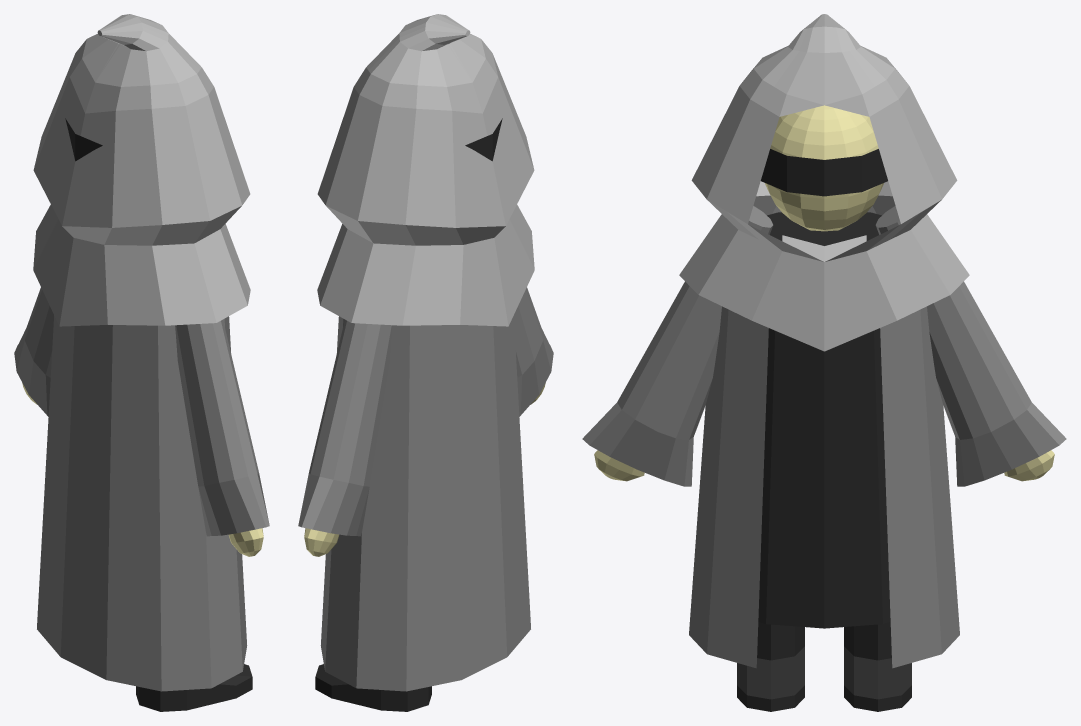
Rendered from glyphv1.fbx.
3 renders of one model, left to right at view 1: azimuth 30°, elevation 25°; view 2: azimuth 150°, elevation 25°; view 3: azimuth 270°, elevation 25°, orthographic. The views are drawn at different scales.
Parts seen in each view (by area): view 1: Cylinder.002, Cone, Cylinder.004, Cylinder, Cylinder.005, Cylinder.003; view 2: Cylinder.002, Cone, Cylinder.004, Cylinder, Cylinder.005, Cylinder.003; view 3: Cone, Cylinder.002, Cylinder.001, Cylinder.004, Cylinder, Sphere, Cylinder.003, Cylinder.005.
Boxes of the visible parts, box(x1,y1,x2,y2) form: Cylinder.002: box(37, 315, 247, 691); Cone: box(33, 14, 250, 326); Cylinder.004: box(14, 287, 269, 536); Cylinder: box(136, 664, 252, 711); Cylinder.005: box(22, 383, 263, 556); Cylinder.003: box(65, 118, 102, 161); Cylinder.002: box(320, 315, 530, 691); Cone: box(317, 14, 534, 326); Cylinder.004: box(298, 287, 553, 536); Cylinder: box(315, 664, 431, 711); Cylinder.005: box(304, 383, 545, 556); Cylinder.003: box(465, 118, 502, 161); Cone: box(679, 14, 969, 351); Cylinder.002: box(689, 306, 959, 668); Cylinder.001: box(758, 212, 890, 628); Cylinder.004: box(582, 206, 1066, 486); Cylinder: box(737, 622, 911, 711); Sphere: box(765, 105, 883, 231); Cylinder.003: box(761, 149, 887, 196); Cylinder.005: box(594, 450, 1054, 481).
Bounding box in the file's own units: 54.14 × 208 × 141.
